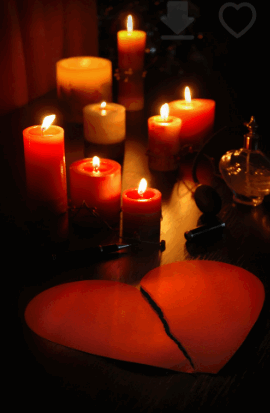Fire: (149, 97, 175, 133), (130, 171, 158, 198), (33, 110, 63, 135), (180, 82, 198, 111), (91, 146, 108, 175)
